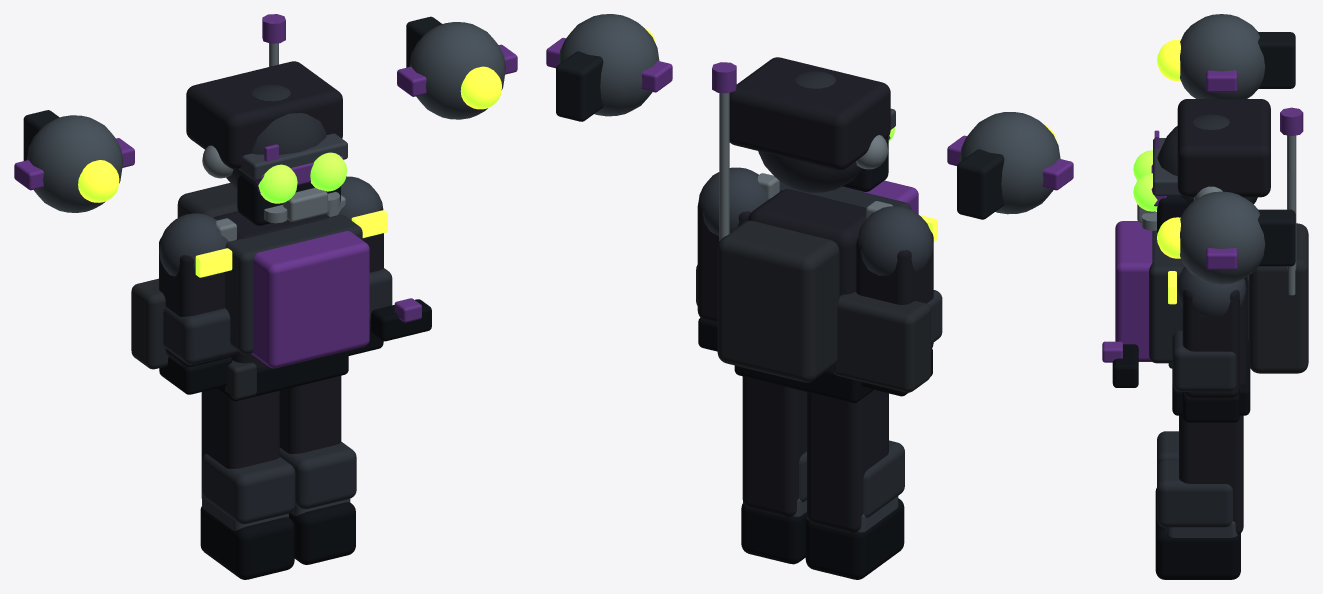
Rendered from aegis_l01.glb.
The picture shows the model from 3 angles, left to right: view 1: azimuth 30°, elevation 25°; view 2: azimuth 150°, elevation 25°; view 3: azimuth 270°, elevation 25°; orthographic projection. The views are drawn at different scales.
Visible parts, largest first — view 1: control_vest, interceptor_core (×2), trouser (×2), hood, shaped_knee_guard (×2), boot (×2), segmented_vest, forearm_plate (×2), shoulder_joint (×2), sleeve, rounded_helmet, interceptor_eye (×2) (+16 smaller); view 2: field_pack, trouser (×2), hood, interceptor_core (×2), map_satchel, boot (×2), shoulder_joint (×2), interceptor_tail (×2), sleeve (×2), body, rounded_helmet, interceptor_wing (×2) (+8 smaller); view 3: interceptor_core (×2), hood, field_pack, trouser, shaped_knee_guard (×2), control_vest, interceptor_tail (×2), boot, sleeve, segmented_vest, forearm_plate, shoulder_joint (+16 smaller).
Boxes of the visible parts, x1,y1,x2,y2 form: control_vest: (251, 231, 369, 368); interceptor_core (×2): (27, 22, 505, 212); trouser (×2): (201, 375, 341, 498); hood: (186, 61, 342, 169); shaped_knee_guard (×2): (202, 442, 356, 524); boot (×2): (200, 502, 355, 579); segmented_vest: (225, 214, 362, 354); forearm_plate (×2): (163, 268, 392, 364); shoulder_joint (×2): (159, 176, 383, 279); sleeve: (159, 237, 230, 366); rounded_helmet: (226, 85, 326, 188); interceptor_eye (×2): (78, 66, 501, 202); field_pack: (717, 220, 839, 382); trouser (×2): (742, 376, 888, 532); hood: (729, 57, 890, 170); interceptor_core (×2): (558, 14, 1060, 214); map_satchel: (832, 292, 930, 392); boot (×2): (741, 498, 904, 579); shoulder_joint (×2): (698, 167, 933, 275); interceptor_tail (×2): (556, 51, 1004, 219); sleeve (×2): (697, 199, 933, 349); body: (748, 189, 866, 368); rounded_helmet: (758, 71, 862, 192); interceptor_wing (×2): (546, 37, 1073, 190); interceptor_core (×2): (1180, 14, 1265, 284); hood: (1177, 99, 1270, 197); field_pack: (1249, 223, 1308, 373); trouser: (1179, 415, 1243, 534); shaped_knee_guard (×2): (1157, 431, 1232, 527); control_vest: (1115, 221, 1152, 361); interceptor_tail (×2): (1258, 32, 1295, 266); boot: (1155, 516, 1240, 579); sleeve: (1182, 289, 1239, 398); segmented_vest: (1149, 230, 1184, 363); forearm_plate: (1172, 330, 1236, 391); shoulder_joint: (1177, 267, 1246, 318).
Bounding box in the file's own units: 2.07 × 1.97 × 0.795.
